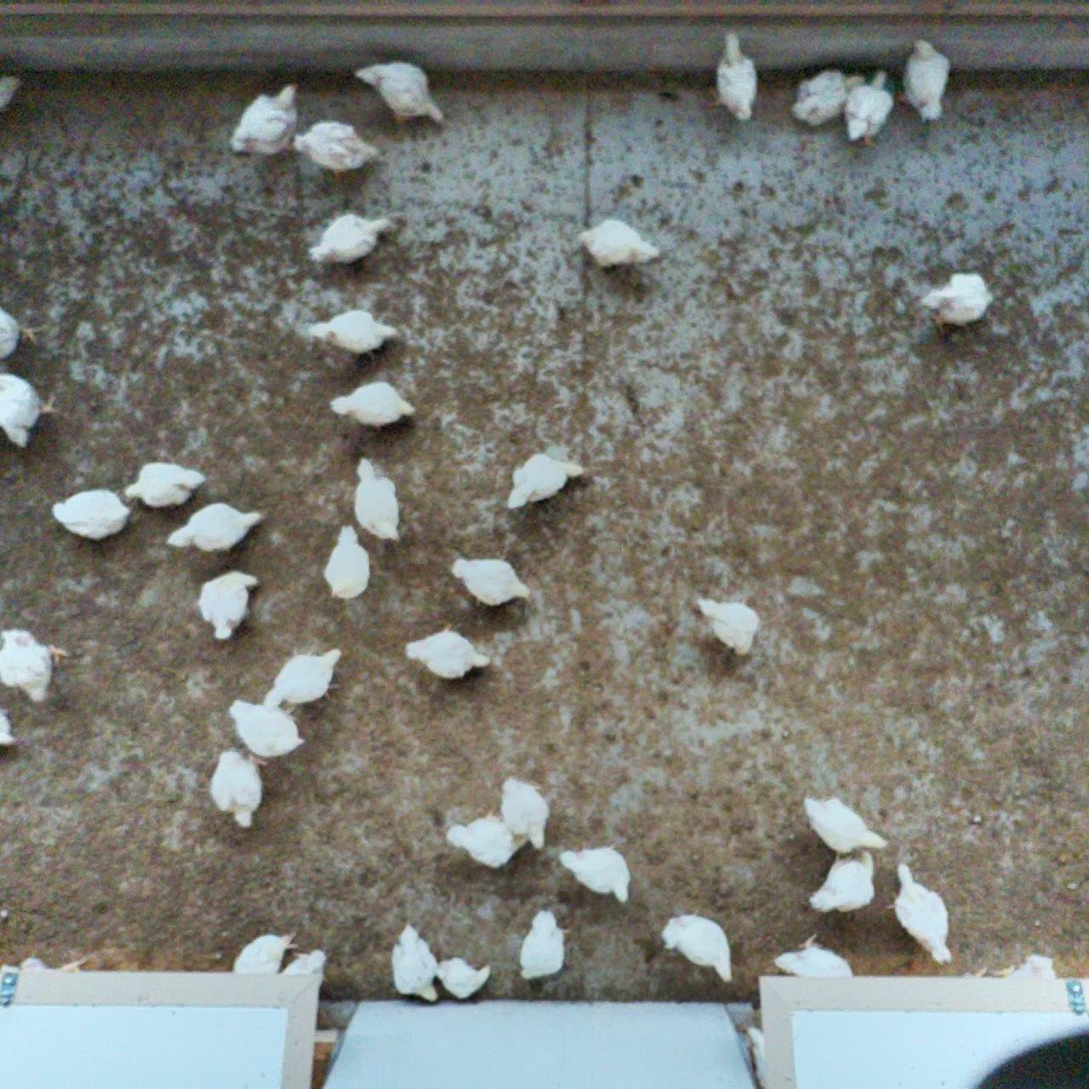chicken: (887, 859, 955, 967), (351, 54, 446, 130), (225, 78, 302, 161), (659, 909, 738, 985), (261, 643, 345, 714), (440, 808, 530, 874), (891, 35, 956, 126), (921, 264, 1000, 338), (166, 500, 269, 556), (208, 744, 273, 832), (573, 212, 665, 273), (0, 624, 70, 703), (402, 620, 492, 680), (803, 794, 890, 856), (291, 119, 381, 177), (0, 369, 63, 451), (307, 209, 393, 269), (194, 566, 260, 644), (505, 448, 586, 511), (304, 304, 401, 356), (447, 549, 531, 609), (348, 453, 403, 544), (555, 840, 633, 904), (789, 66, 867, 130), (228, 697, 308, 759), (710, 26, 761, 123), (807, 849, 878, 918), (325, 378, 418, 430), (384, 921, 440, 1007), (51, 487, 134, 543), (319, 521, 375, 604), (123, 457, 209, 511), (494, 773, 552, 853), (773, 934, 857, 987), (693, 593, 762, 657), (515, 907, 570, 984), (845, 64, 895, 148), (231, 931, 302, 980), (433, 952, 495, 1002), (0, 306, 46, 361), (994, 952, 1062, 982), (282, 946, 328, 990), (0, 70, 23, 114)
